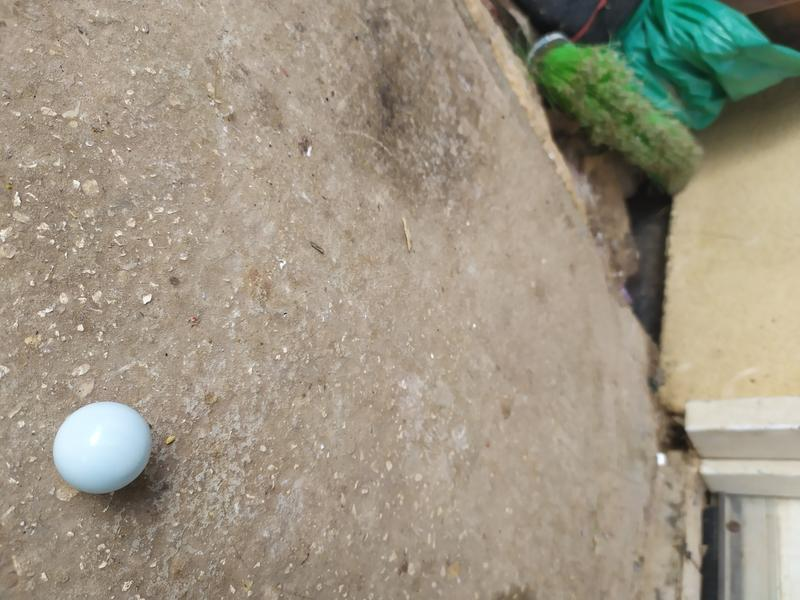Warning: (50, 399, 157, 498)
